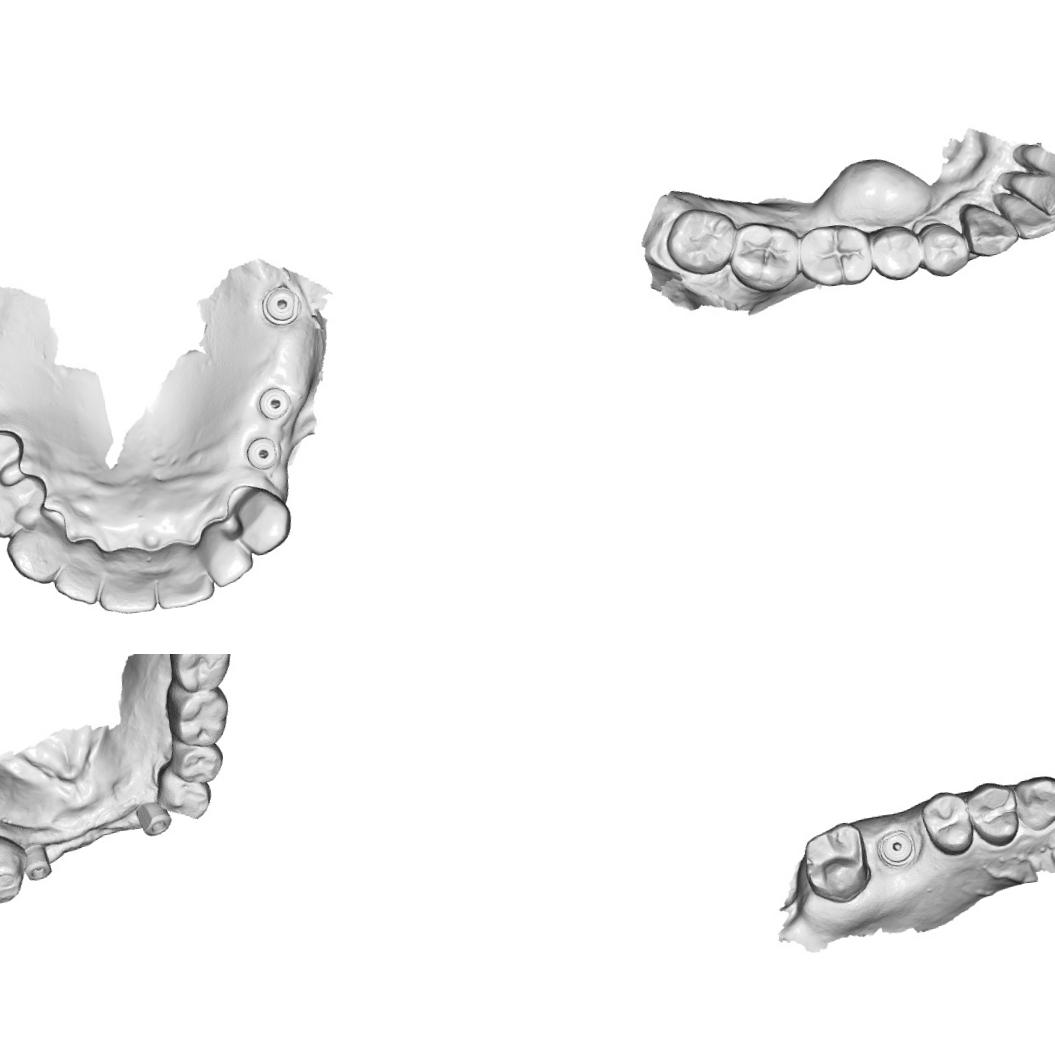canine: (0, 515, 74, 590), (229, 484, 296, 561), (959, 198, 1022, 261), (1012, 771, 1055, 834)
implant: (258, 279, 304, 328), (874, 826, 916, 870), (133, 797, 174, 838), (243, 434, 282, 474), (21, 839, 53, 882), (257, 385, 293, 421)
incisor: (91, 555, 161, 622), (148, 550, 219, 614), (992, 184, 1055, 246), (48, 547, 109, 610), (200, 528, 258, 590), (1001, 167, 1055, 222)
molar: (723, 214, 808, 299), (798, 818, 875, 908), (659, 201, 743, 281), (794, 218, 875, 292), (163, 676, 236, 750), (164, 654, 236, 695)
premolar: (918, 788, 977, 860), (963, 778, 1022, 850), (151, 757, 214, 824), (0, 469, 54, 545), (914, 216, 976, 282), (864, 220, 926, 284), (167, 734, 226, 787), (0, 425, 30, 497), (0, 831, 28, 907)
